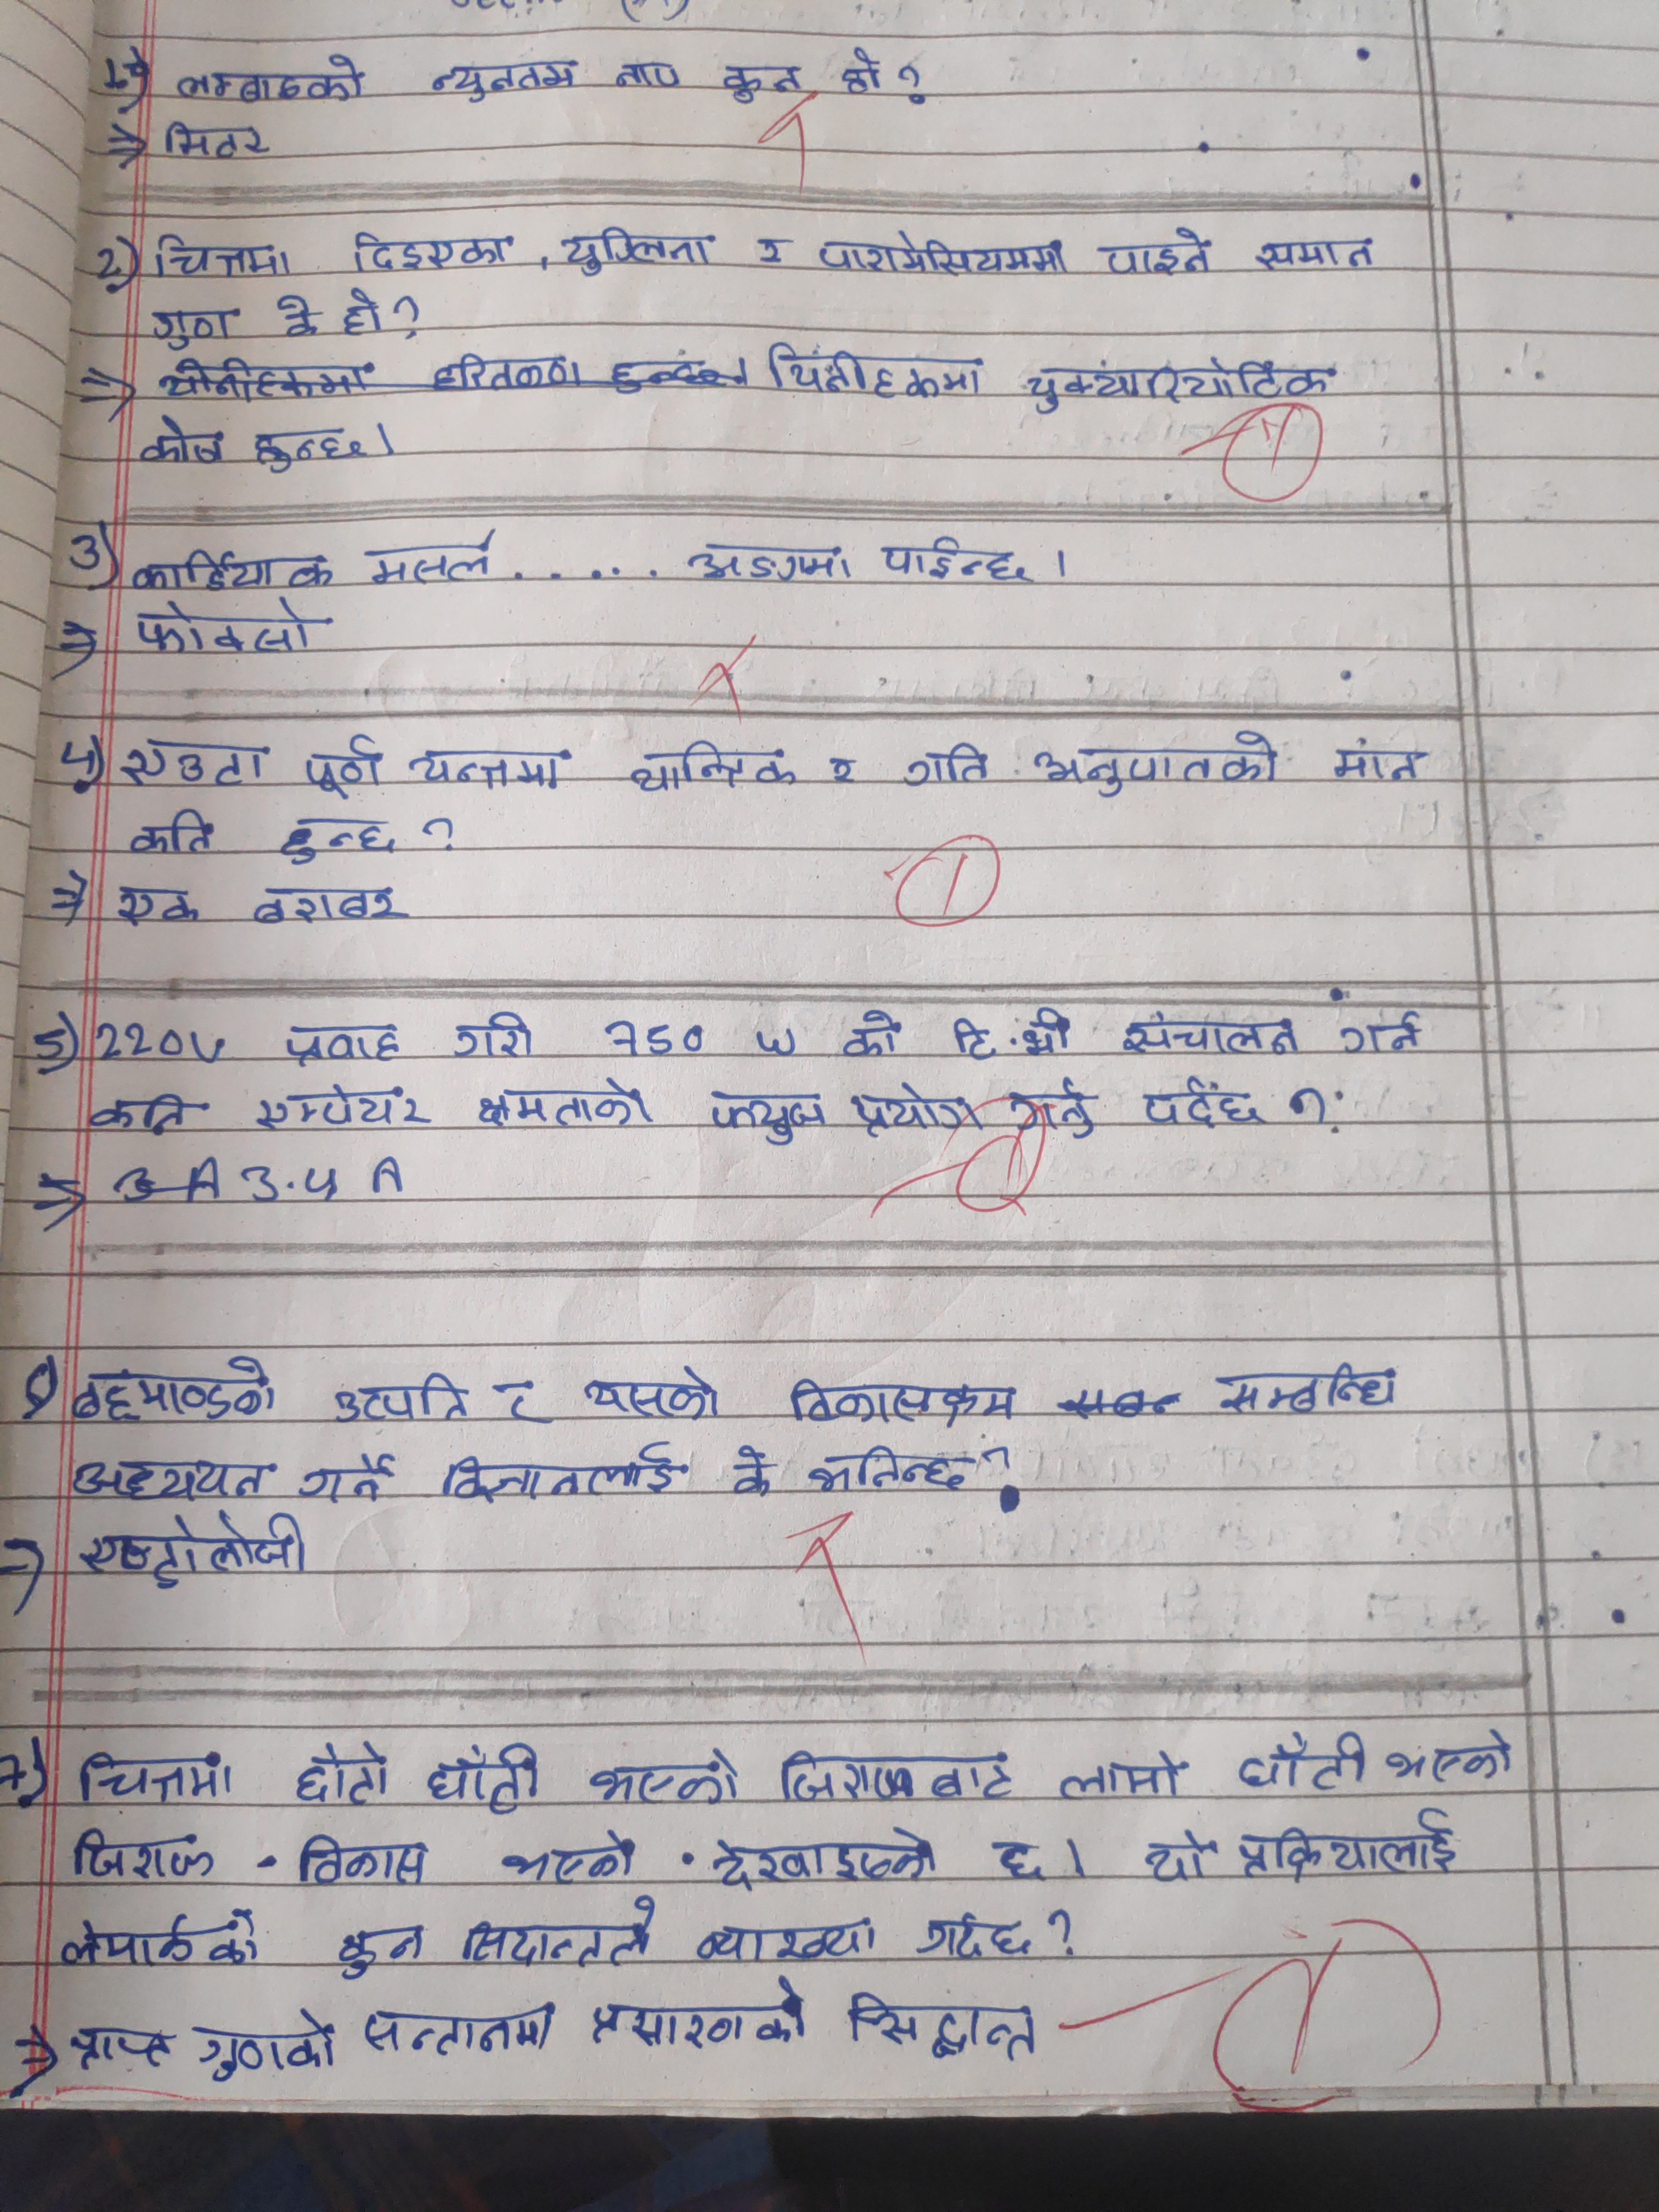text: (1016, 348, 1345, 416), (71, 1507, 310, 1592), (1230, 1804, 1485, 1883), (1028, 725, 1283, 798), (769, 1740, 1026, 1810), (587, 1979, 821, 2054), (457, 1895, 657, 1975), (66, 1355, 281, 1430), (843, 1989, 1046, 2067), (430, 1442, 681, 1503), (708, 1829, 941, 1893), (54, 1905, 268, 1975), (781, 1371, 1018, 1433), (765, 340, 993, 404), (809, 223, 1077, 275), (193, 2005, 343, 2092), (356, 2001, 565, 2062), (1208, 1359, 1406, 1421), (167, 54, 369, 113), (584, 1743, 746, 1817), (64, 1449, 270, 1507), (127, 597, 319, 658), (403, 735, 573, 803), (690, 1911, 885, 1968), (1112, 1007, 1300, 1064), (251, 1076, 432, 1136), (626, 737, 795, 799), (127, 549, 335, 599), (71, 1749, 237, 1810), (63, 1827, 228, 1888), (471, 1076, 655, 1130), (875, 531, 1033, 594), (418, 1745, 547, 1822), (577, 1360, 721, 1428), (282, 1738, 408, 1813), (809, 1439, 976, 1494), (293, 1831, 436, 1895), (702, 1080, 833, 1148), (148, 232, 295, 291), (681, 540, 859, 589), (425, 54, 580, 110), (941, 1001, 1077, 1064), (361, 529, 504, 589), (349, 225, 516, 275), (1239, 1731, 1370, 1796), (322, 1374, 479, 1426), (843, 1080, 981, 1139), (119, 742, 274, 794), (1385, 1724, 1518, 1785), (64, 2017, 186, 2081), (500, 1831, 650, 1883), (552, 223, 716, 270), (326, 1918, 427, 1991), (1006, 1068, 1103, 1143), (246, 883, 406, 928), (1150, 1078, 1269, 1139), (270, 1021, 413, 1071), (270, 808, 408, 860), (1053, 1750, 1190, 1801), (298, 730, 390, 805), (1249, 232, 1384, 282), (1098, 223, 1215, 280), (293, 1449, 399, 1512), (247, 423, 369, 475), (1328, 726, 1436, 784), (85, 1087, 199, 1141), (910, 1911, 1032, 1959), (112, 874, 202, 934), (138, 413, 234, 469), (160, 115, 274, 162), (896, 745, 1021, 787), (725, 57, 816, 115), (441, 1014, 542, 1064), (125, 808, 221, 860), (146, 308, 246, 355), (1134, 1827, 1218, 1883), (1335, 1007, 1429, 1055), (490, 1371, 559, 1432), (830, 37, 885, 111), (836, 1012, 906, 1064), (985, 1832, 1054, 1881), (335, 287, 389, 347), (727, 1439, 774, 1501), (819, 747, 875, 798), (612, 56, 683, 92), (274, 296, 328, 341), (749, 233, 793, 273)
